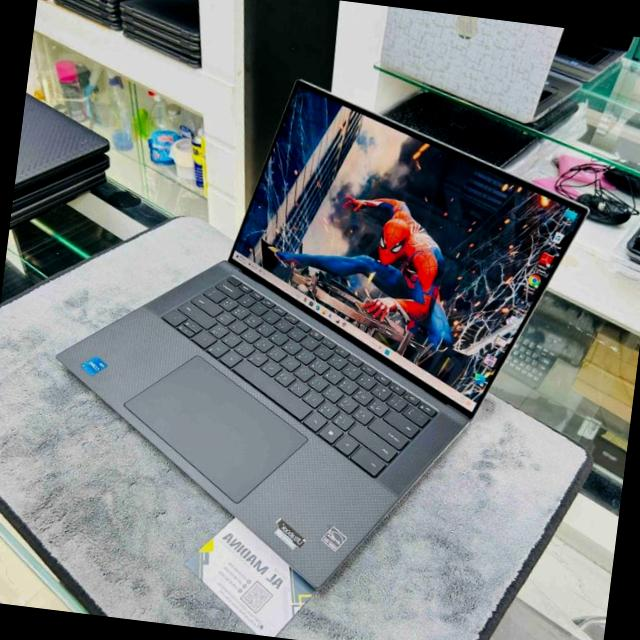laptop: (49, 40, 608, 618)
